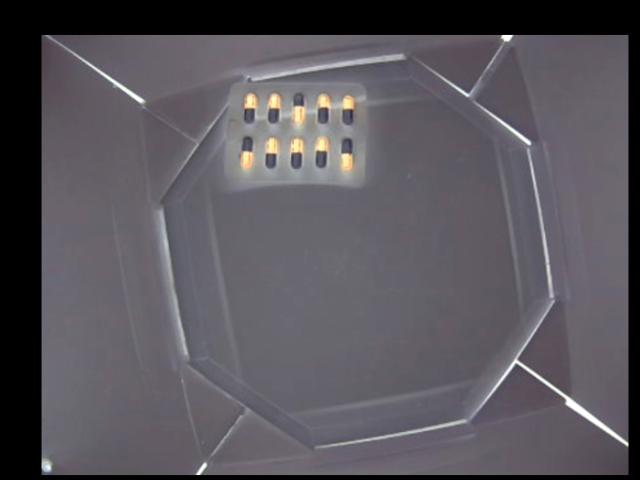Medicine: (225, 81, 369, 188)
